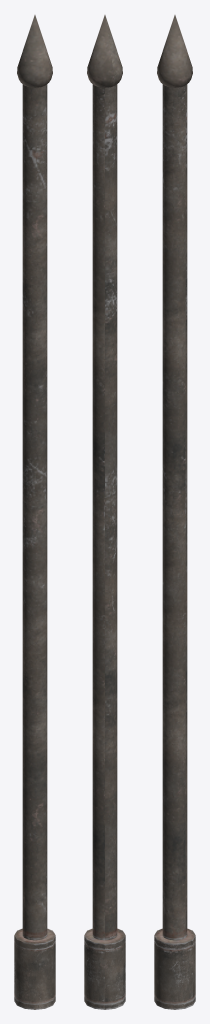
Rendered from SM_FlagPole02.FBX.
The picture shows the model from 3 angles, left to right: view 1: azimuth 30°, elevation 25°; view 2: azimuth 210°, elevation 25°; view 3: azimuth 270°, elevation 25°; orthographic projection.
Visible parts, largest first — view 1: SM_FlagPole02; view 2: SM_FlagPole02; view 3: SM_FlagPole02.
Boxes of the visible parts, box(x1,y1,x2,y2) form: SM_FlagPole02: box(14, 15, 55, 1009); SM_FlagPole02: box(84, 15, 125, 1009); SM_FlagPole02: box(154, 15, 195, 1009).
Size of the model in its own units: 30.15 by 30.15 by 793.
